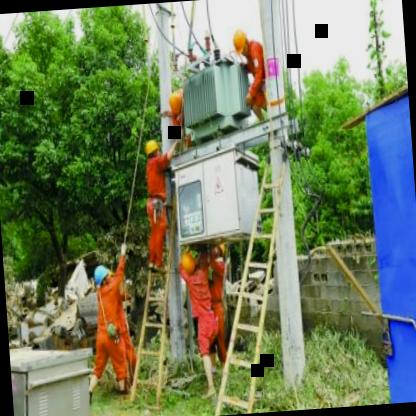helmet: (230, 27, 252, 58), (142, 134, 162, 162), (92, 261, 110, 289), (167, 89, 185, 117), (180, 252, 199, 276)
